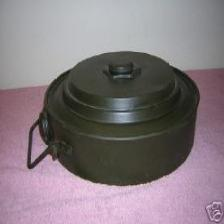TM-46: (20, 37, 209, 192)
